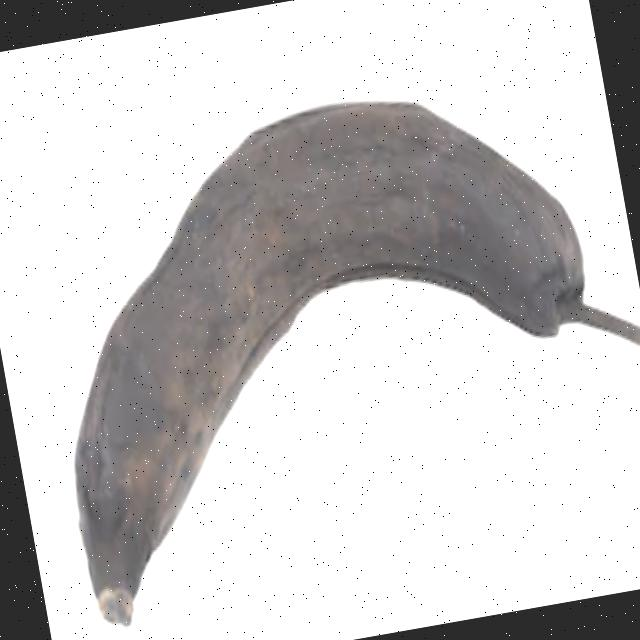Rotten: (5, 27, 640, 640)
